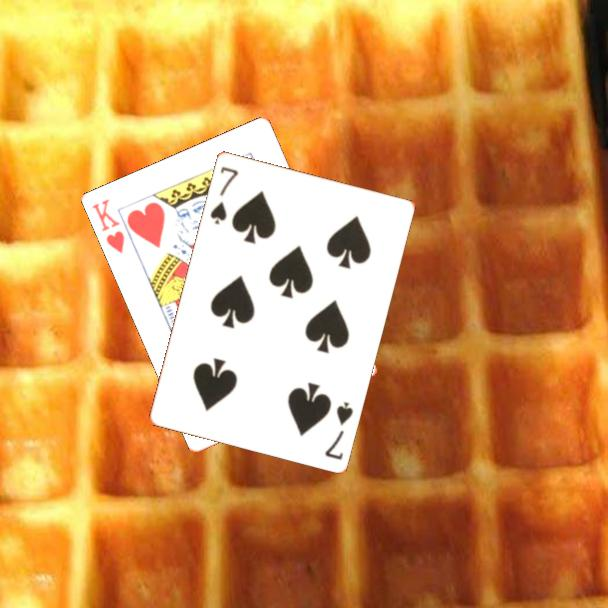h13: (89, 196, 128, 257)
s07: (206, 162, 241, 227), (321, 398, 356, 462)
